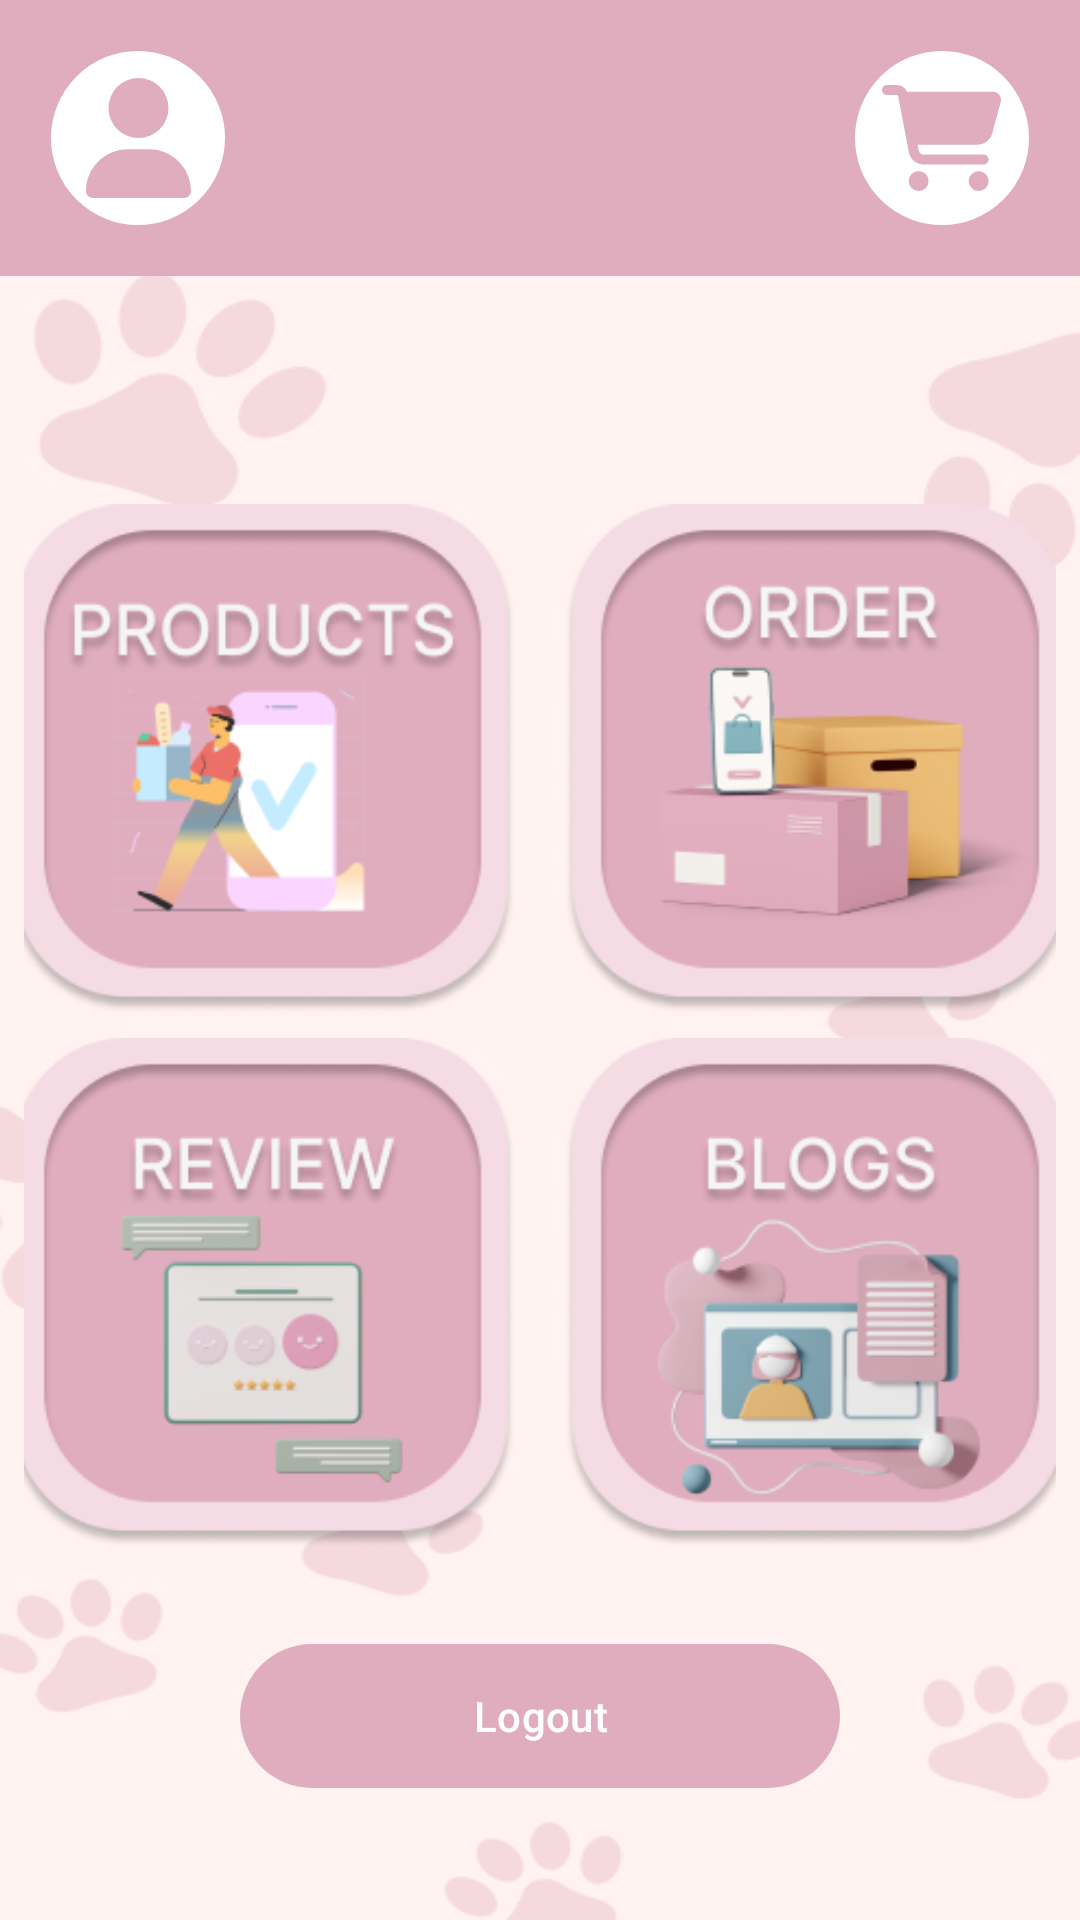

Point at icon controls on the screen. Image size 1080×1920, points as (x,y).
cart: (941,138)
user: (138,138)
